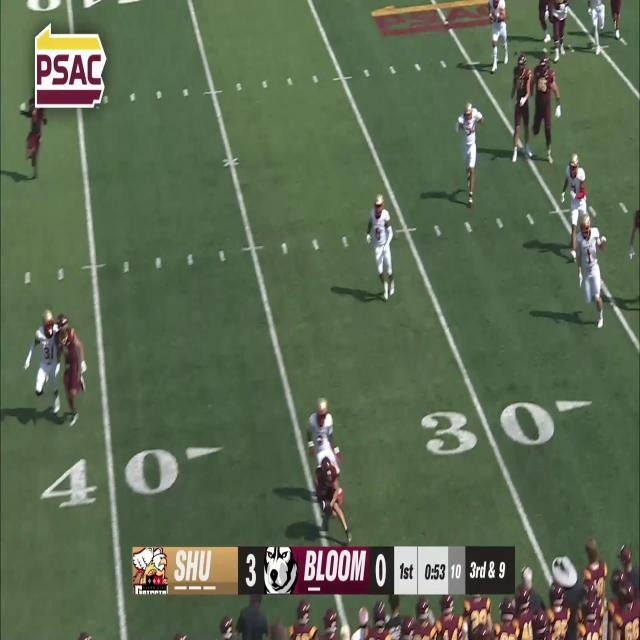football: (319, 498, 333, 514)
